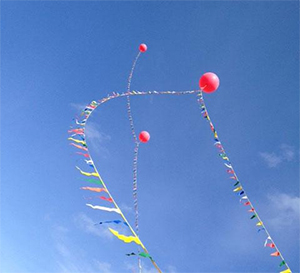Balloon: (199, 71, 219, 92), (139, 130, 150, 142), (139, 43, 148, 52)
